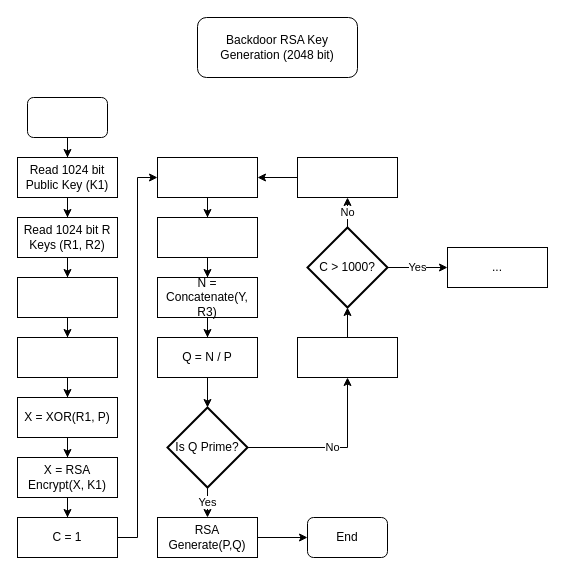
Some shapes in this 565 by 575 pixel diagram are drawn without their labels. Here are the shapes that lost their labels. From the top down, the box of each, then its label:
(26, 96, 108, 138): Start
(156, 156, 258, 198): Y = XOR(X, R2)
(296, 156, 398, 198): R2 = R2 + 1
(156, 216, 258, 258): Generate 1024 Random Bits (R3)
(16, 276, 118, 318): Read R Keys (R1, R2)
(16, 336, 118, 378): Generate 1024 Bit Prime (P)
(296, 336, 398, 378): C = C + 1
